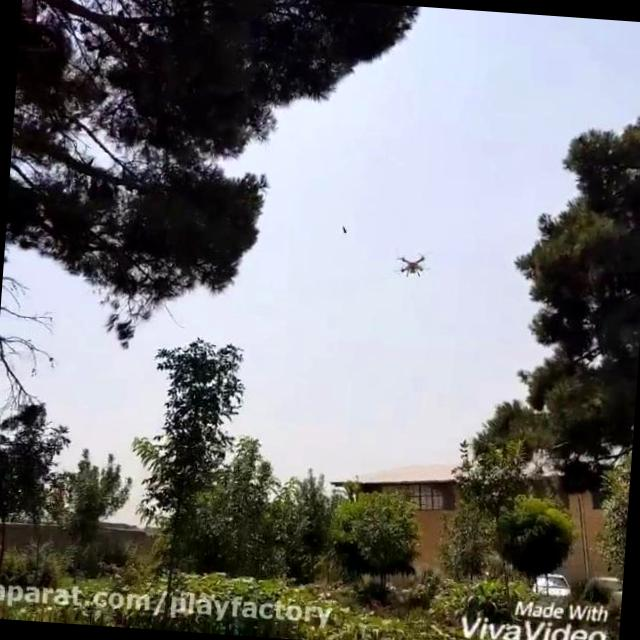drone: (388, 242, 436, 281)
